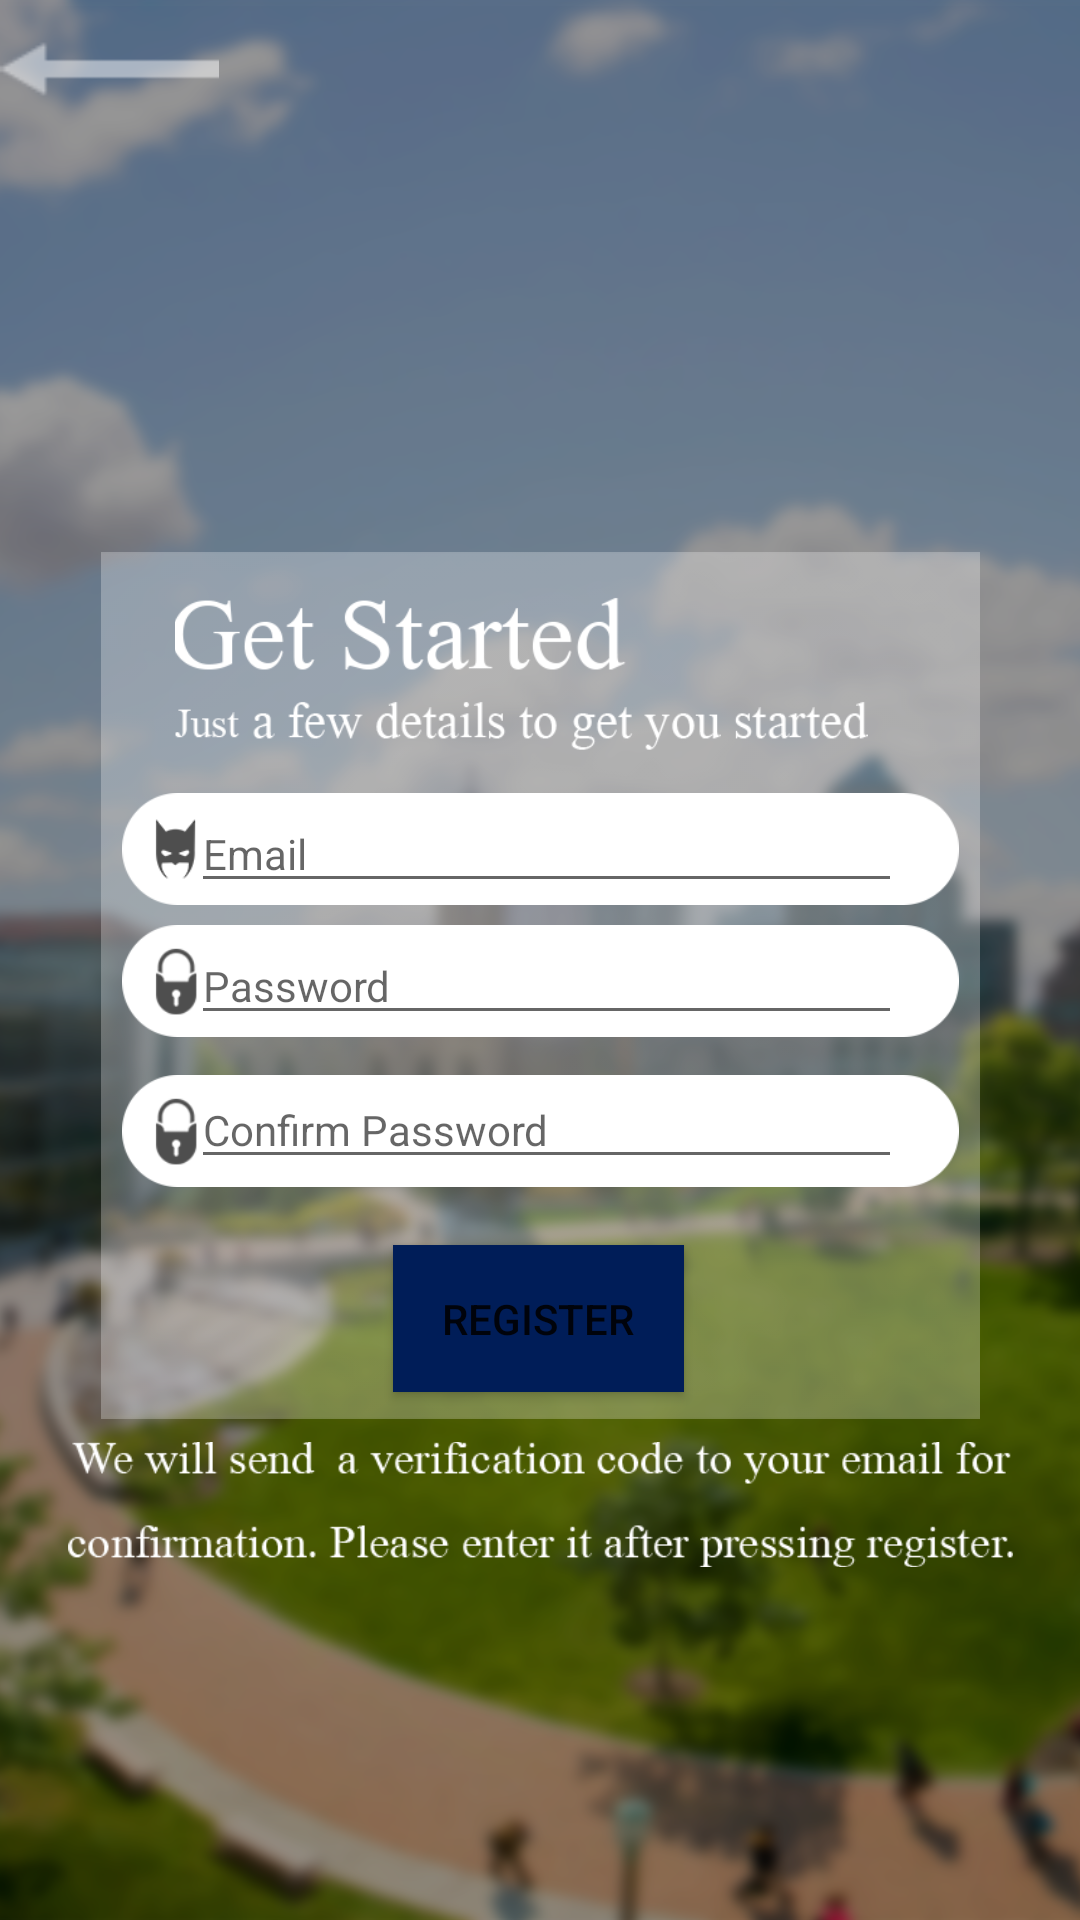

Icon click points for this 1080 × 1920 phone screenshot, format point (x, y):
arrow: point (109, 69)
